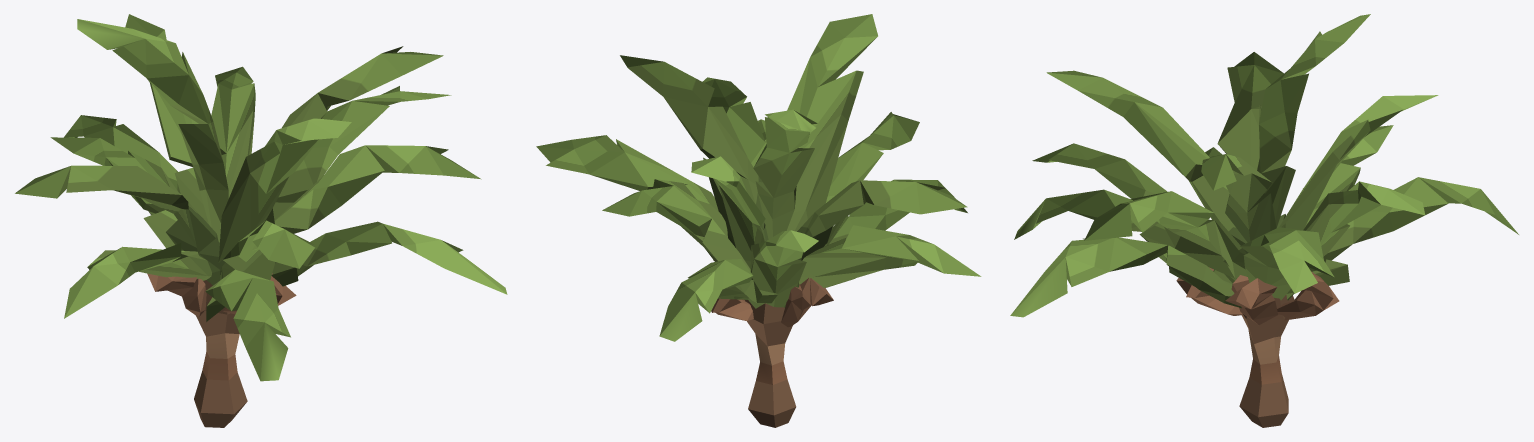
Rendered from SM_Env_Tree_Bush_03.glb.
3 views of the same model, side by side, from view 1: azimuth 30°, elevation 25°; view 2: azimuth 150°, elevation 25°; view 3: azimuth 270°, elevation 25° (orthographic). The views are drawn at different scales.
Parts seen in each view (by area): view 1: SM_Env_Tree_Bush_03; view 2: SM_Env_Tree_Bush_03; view 3: SM_Env_Tree_Bush_03.
Part boxes in pixels (x1=…): SM_Env_Tree_Bush_03: x1=15, y1=14, x2=507, y2=427; SM_Env_Tree_Bush_03: x1=536, y1=14, x2=981, y2=427; SM_Env_Tree_Bush_03: x1=1010, y1=14, x2=1518, y2=427.
Size of the model in its own units: 4.44 by 3.58 by 4.46.
Materials: 1 (1 with a texture image).
